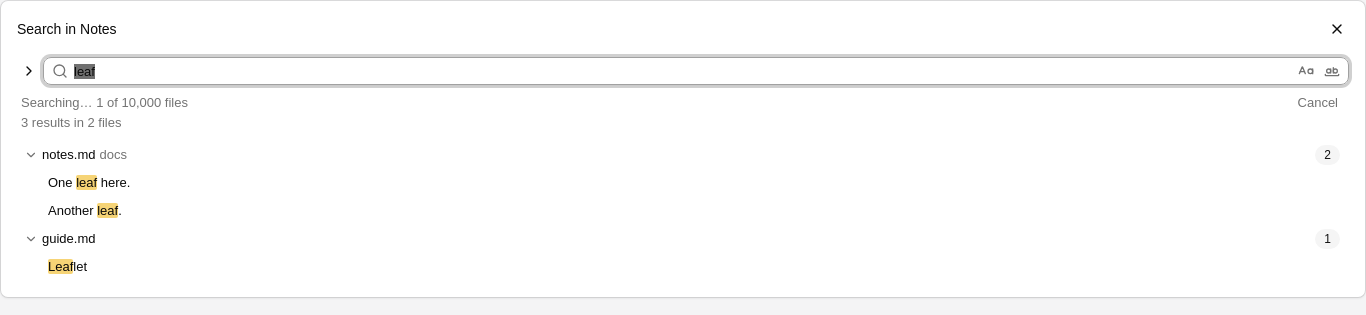
Test case: folder search panel › shows progress with a cancel button, and announces only the outcome
Expected: the text with test id "folder-search-status" reads "Searching… 1 of 10,000 files", [21,95,188,110]
Click the button "Cancel": click(1318, 103) [1290,93,1345,113]
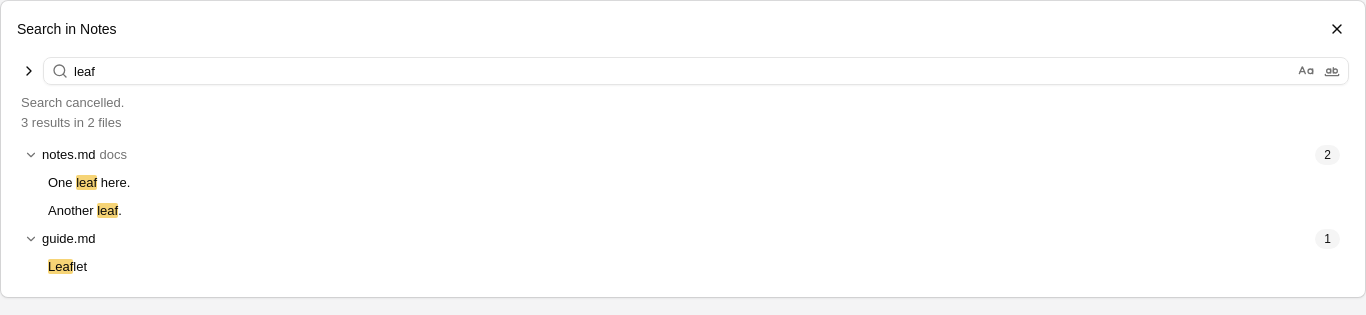
Now the text with test id "folder-search-status" reads "Search cancelled.", box [21,95,124,110]
